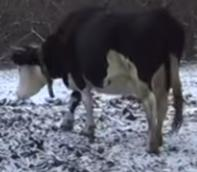cow: (11, 4, 186, 153)
